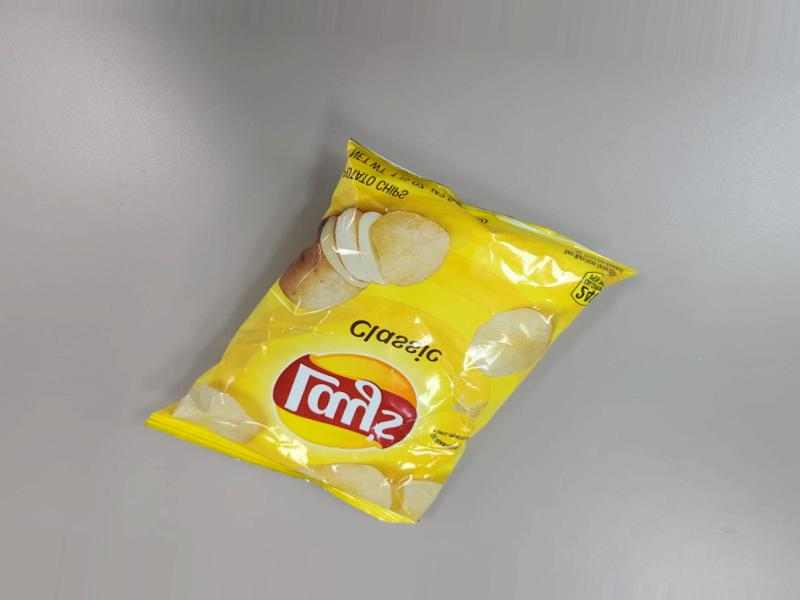lays: (183, 137, 682, 518)
